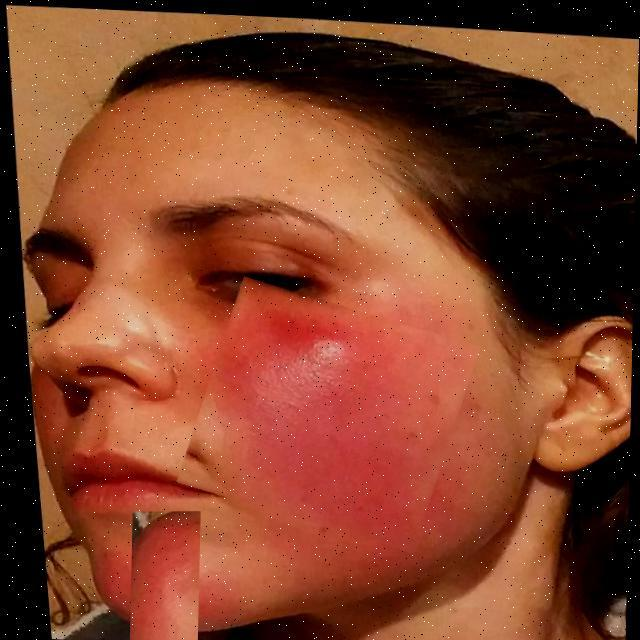redness: (218, 302, 454, 549), (132, 511, 203, 640)
